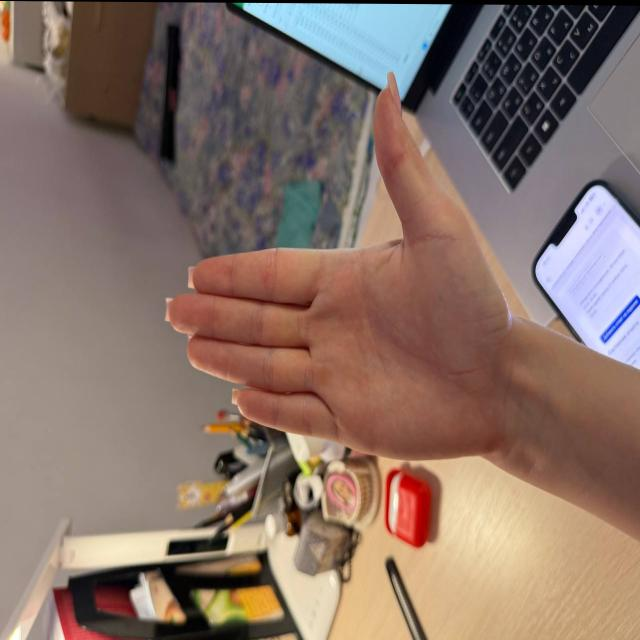v: (147, 63, 515, 471)
